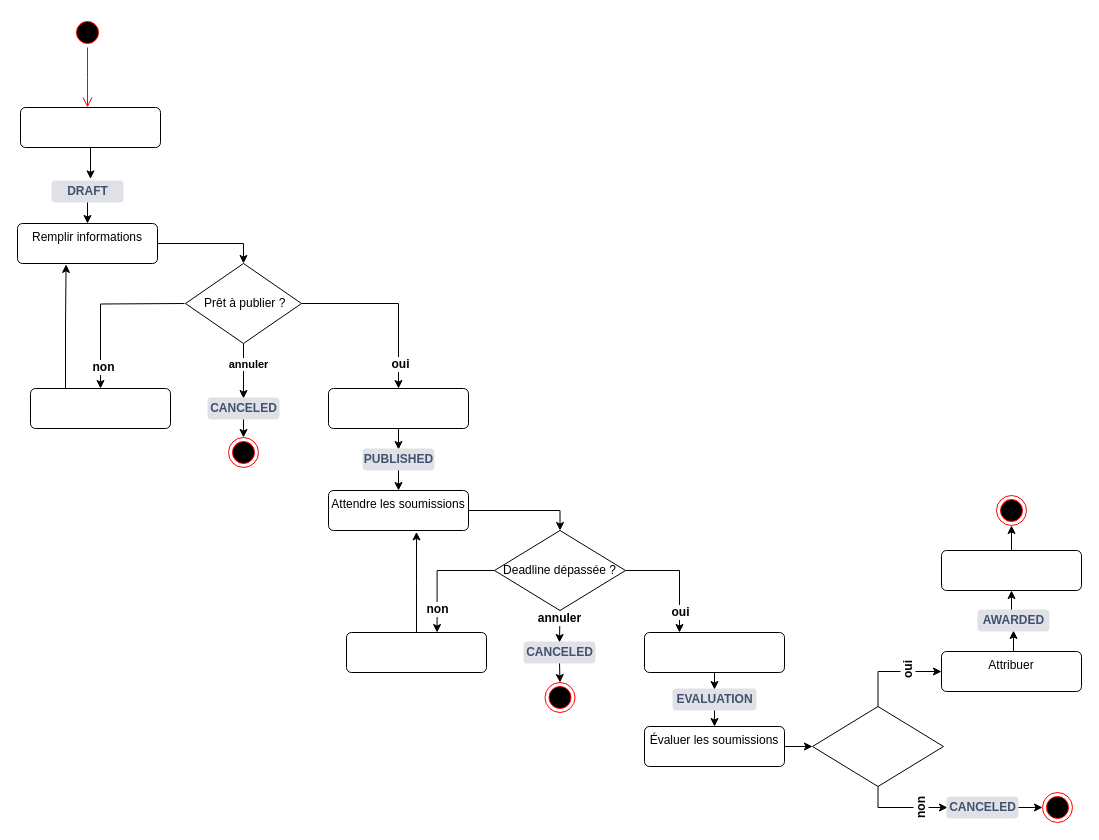
The diagram is 1099 pixels wide and 840 high, and some of its shapes have lost their labels. Here are the shapes that lost their labels. From the top down, the centre of each, then its label:
At (x=90, y=127): "Créer l'offre".
At (x=100, y=408): "Modifier l'offre".
At (x=398, y=408): "Publier".
At (x=1011, y=570): "Générer rapport PDF".
At (x=416, y=652): "Attente continue".
At (x=714, y=652): "Clôturer".
At (x=878, y=746): "Candidat retenu ?".
